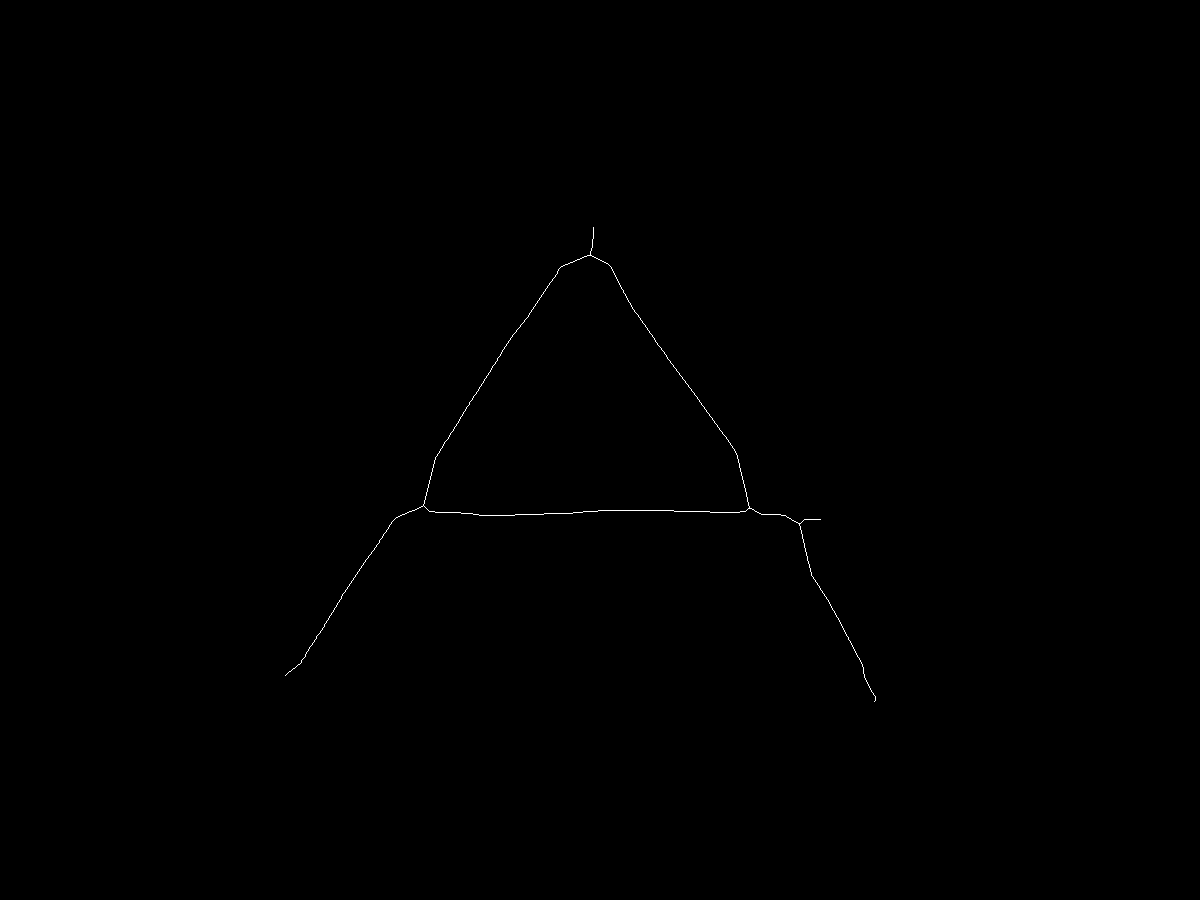dian1: (582, 250, 597, 265)
dian2: (398, 508, 410, 520)
dian3: (291, 662, 307, 678)
dian4: (791, 513, 810, 532)
dian5: (861, 691, 881, 711)
